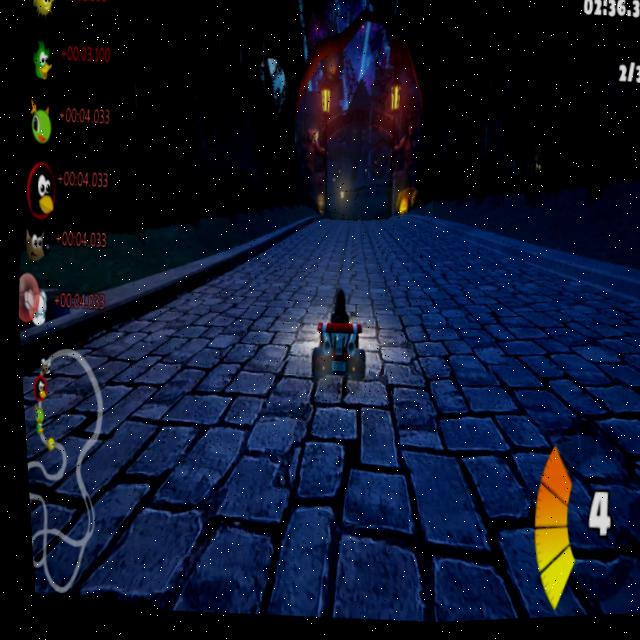off_track: (467, 156, 640, 249), (115, 190, 283, 242)
player_kart: (296, 289, 368, 385)
track: (305, 212, 435, 275)
